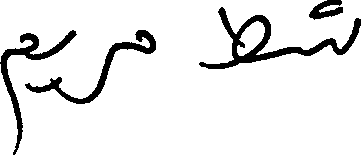ر: (85, 40, 114, 103)
ش: (294, 0, 358, 57)
ط: (200, 4, 271, 69)
م: (0, 31, 38, 153), (132, 27, 155, 54)
ي: (27, 27, 74, 92)
